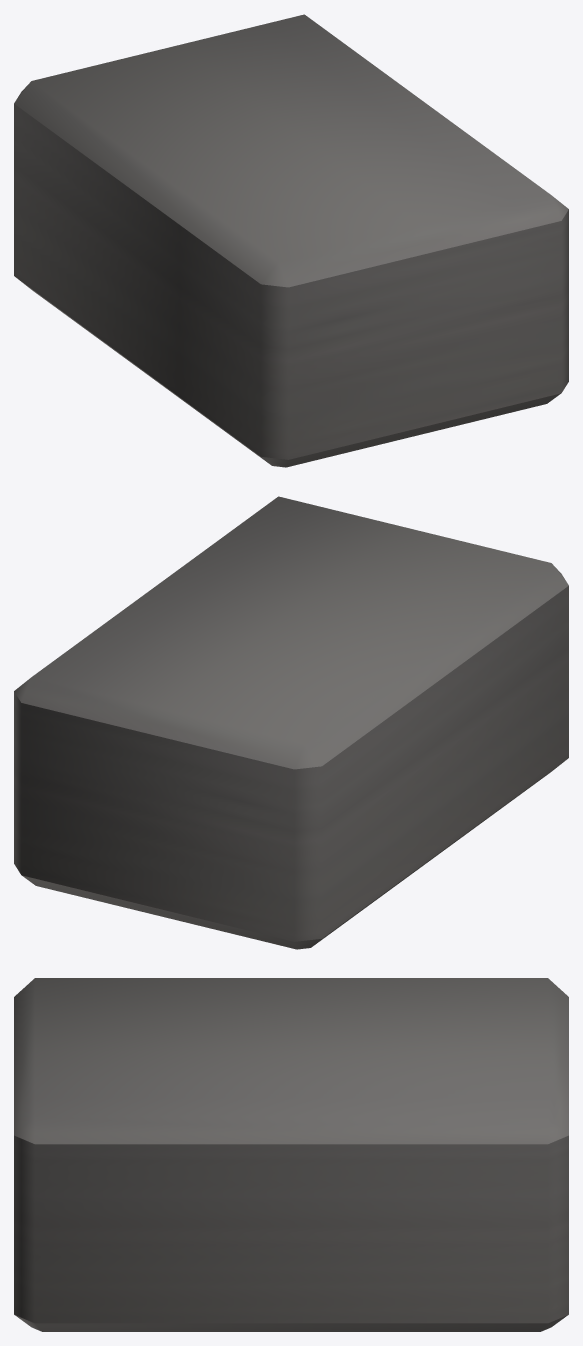
File: StoneBlock_3_2.glb
The picture shows the model from 3 angles, top to bottom: view 1: azimuth 30°, elevation 25°; view 2: azimuth 150°, elevation 25°; view 3: azimuth 270°, elevation 25°; orthographic projection. The views are drawn at different scales.
Visible parts, largest first — view 1: StoneBlock_3_2; view 2: StoneBlock_3_2; view 3: StoneBlock_3_2.
Boxes of the visible parts, box(x1,y1,x2,y2) form: StoneBlock_3_2: box(14, 14, 568, 467); StoneBlock_3_2: box(14, 496, 568, 949); StoneBlock_3_2: box(14, 978, 568, 1331).
Size of the model in its own units: 0.4641 by 0.2967 by 0.6973.
1 material, 1 textured.
